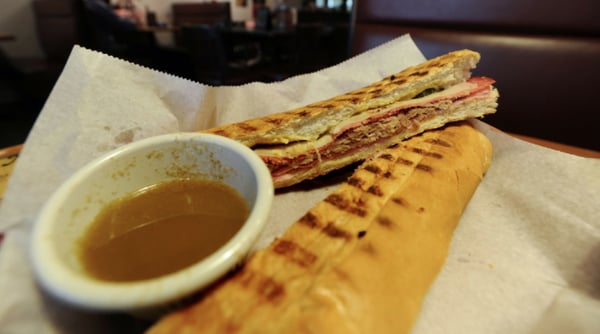soup: (208, 50, 501, 189)
sushi: (26, 131, 274, 319)
